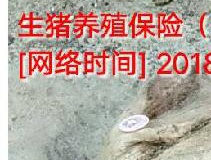text: (110, 105, 156, 140)
